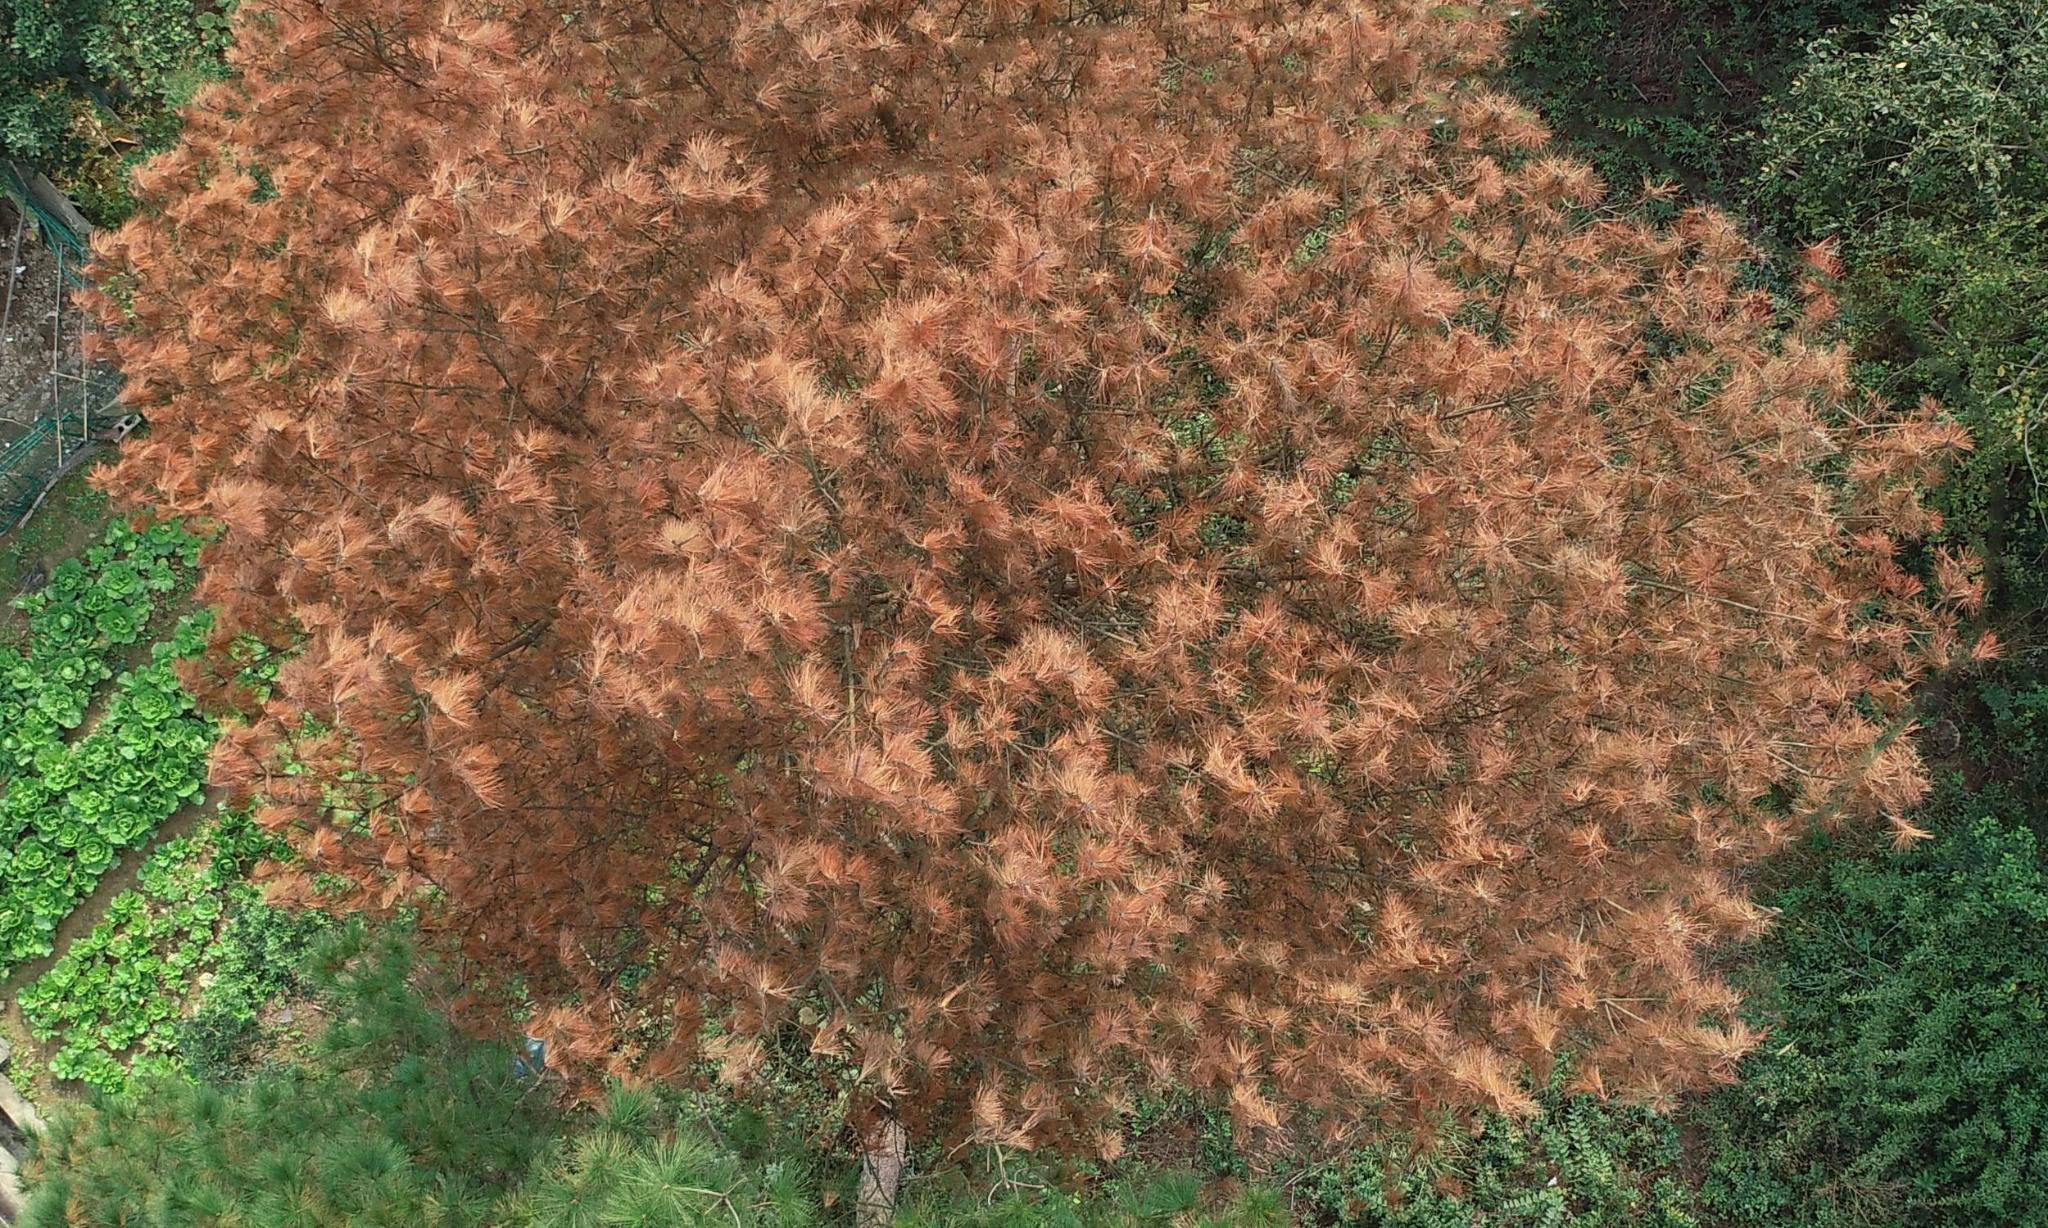heavy: (76, 0, 2009, 1137)
